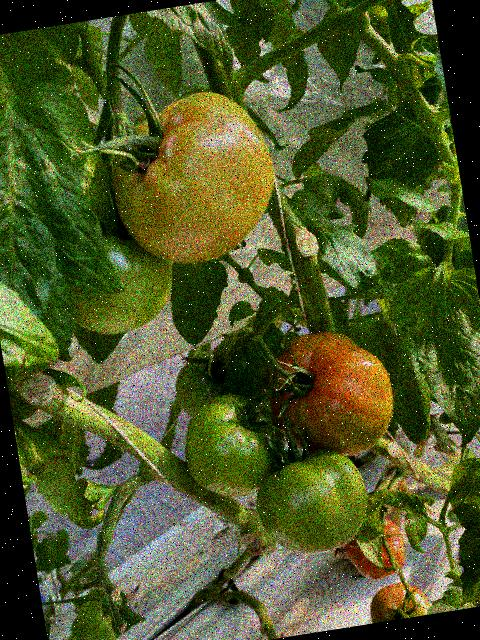b_green: (248, 442, 374, 562), (176, 386, 292, 504), (62, 226, 180, 339), (167, 326, 265, 418)
b_half_ripened: (99, 82, 286, 274), (261, 322, 402, 466), (340, 510, 410, 583), (366, 578, 436, 623)
